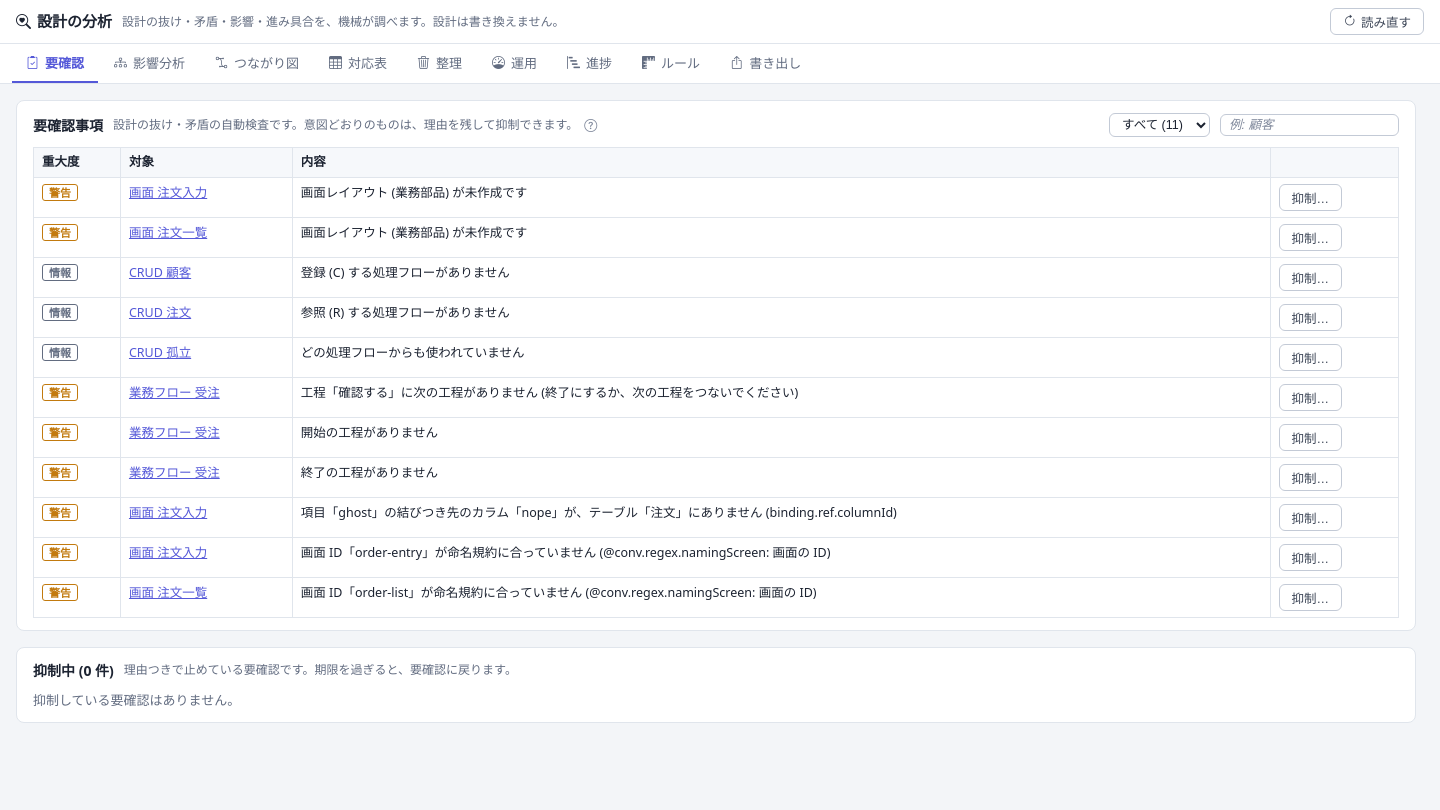
Test: ルール › 命名規約の設定状況 (規約カタログのキー・DB 規約の既定) を出す
Step 1. Click the tab "ルール" → (671, 64), box [628,44,714,83]
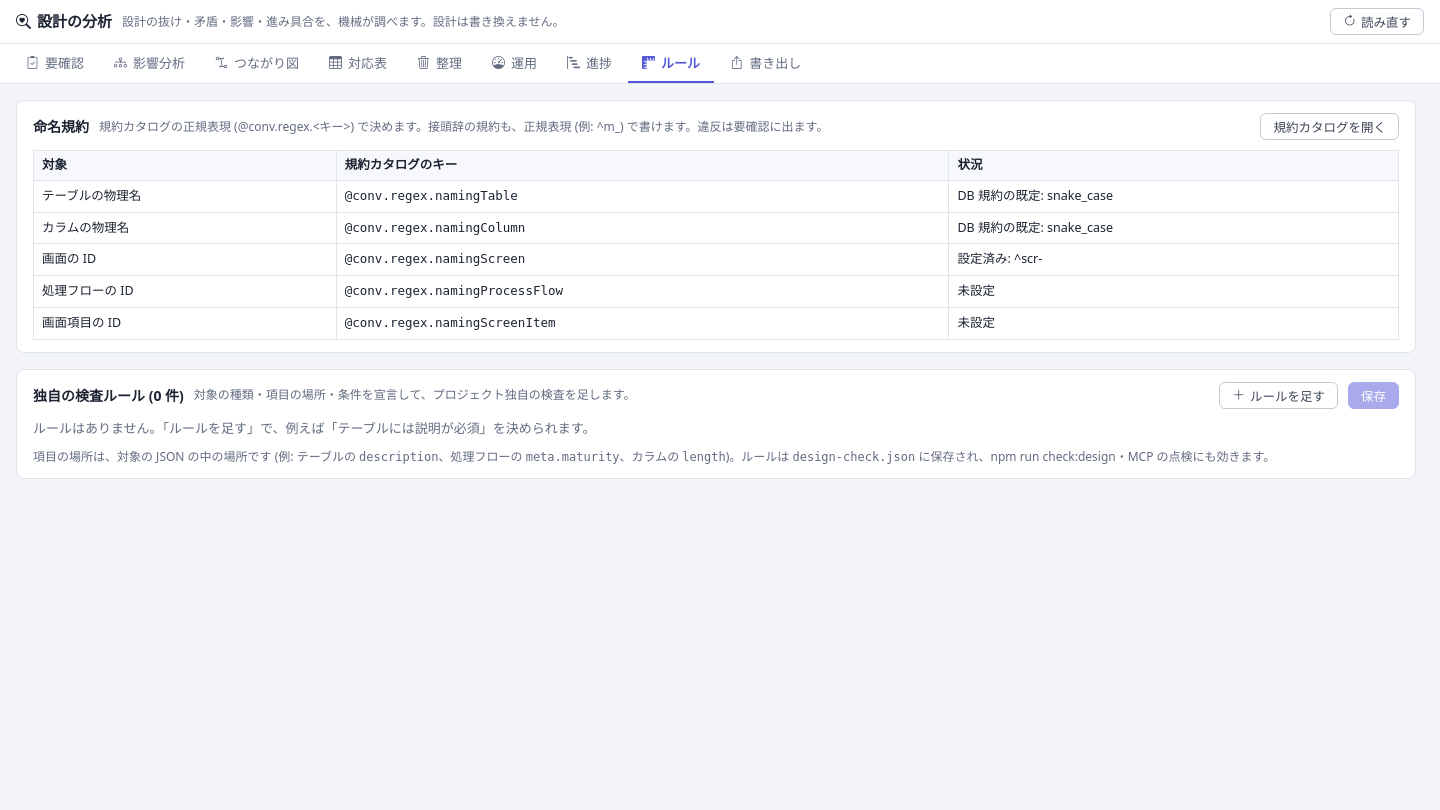
Expected: the element with test id "an-naming" shows "設定済み: ^scr-", [957,250,1042,267]
Expected: the element with test id "an-naming" shows "DB 規約の既定: snake_case", [957,187,1113,204]
Expected: the element with test id "an-naming" shows "未設定", [957,282,995,299]
